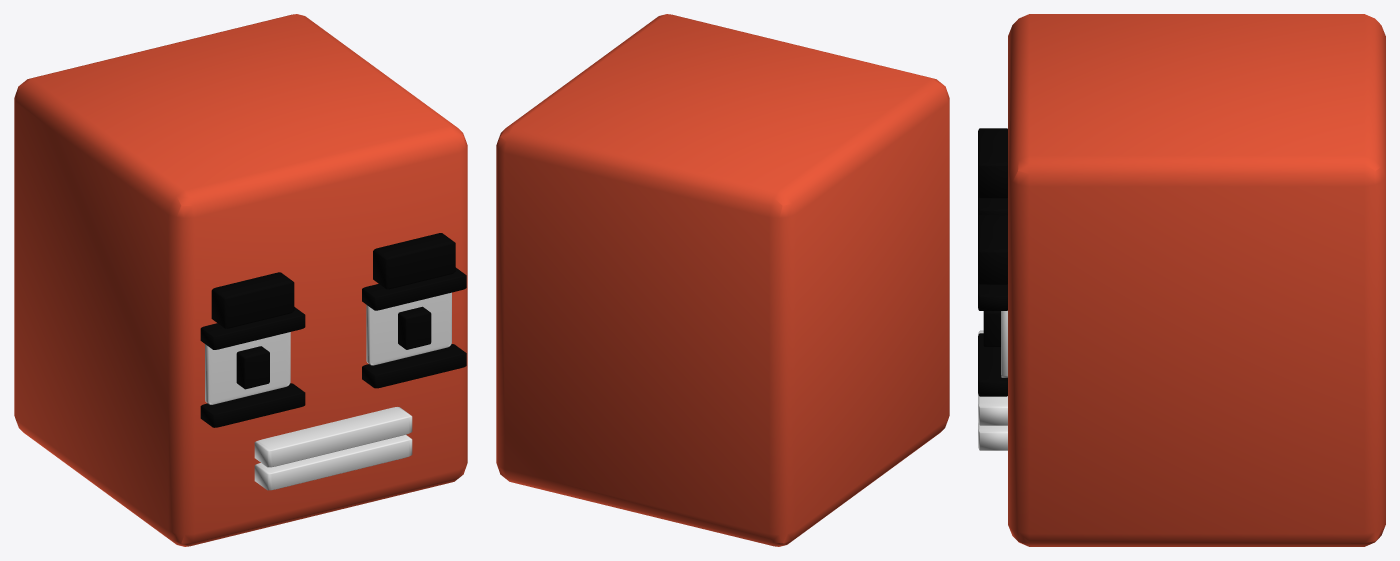
Rendered from head2.glb.
3 renders of one model, left to right at view 1: azimuth 30°, elevation 25°; view 2: azimuth 150°, elevation 25°; view 3: azimuth 270°, elevation 25°, orthographic. The views are drawn at different scales.
Parts seen in each view (by area): view 1: Cube; view 2: Cube; view 3: Cube.
Boxes of the visible parts, box(x1,y1,x2,y2) form: Cube: box(14, 14, 467, 546); Cube: box(496, 14, 949, 546); Cube: box(978, 14, 1385, 546).
Size of the model in its own units: 0.7 by 0.8 by 0.7553.
